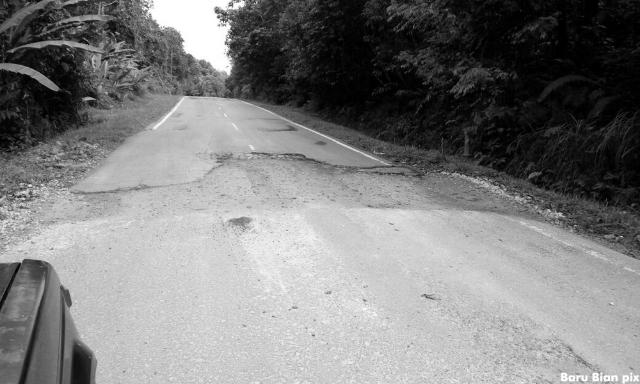Pothole: (1, 152, 565, 250)
